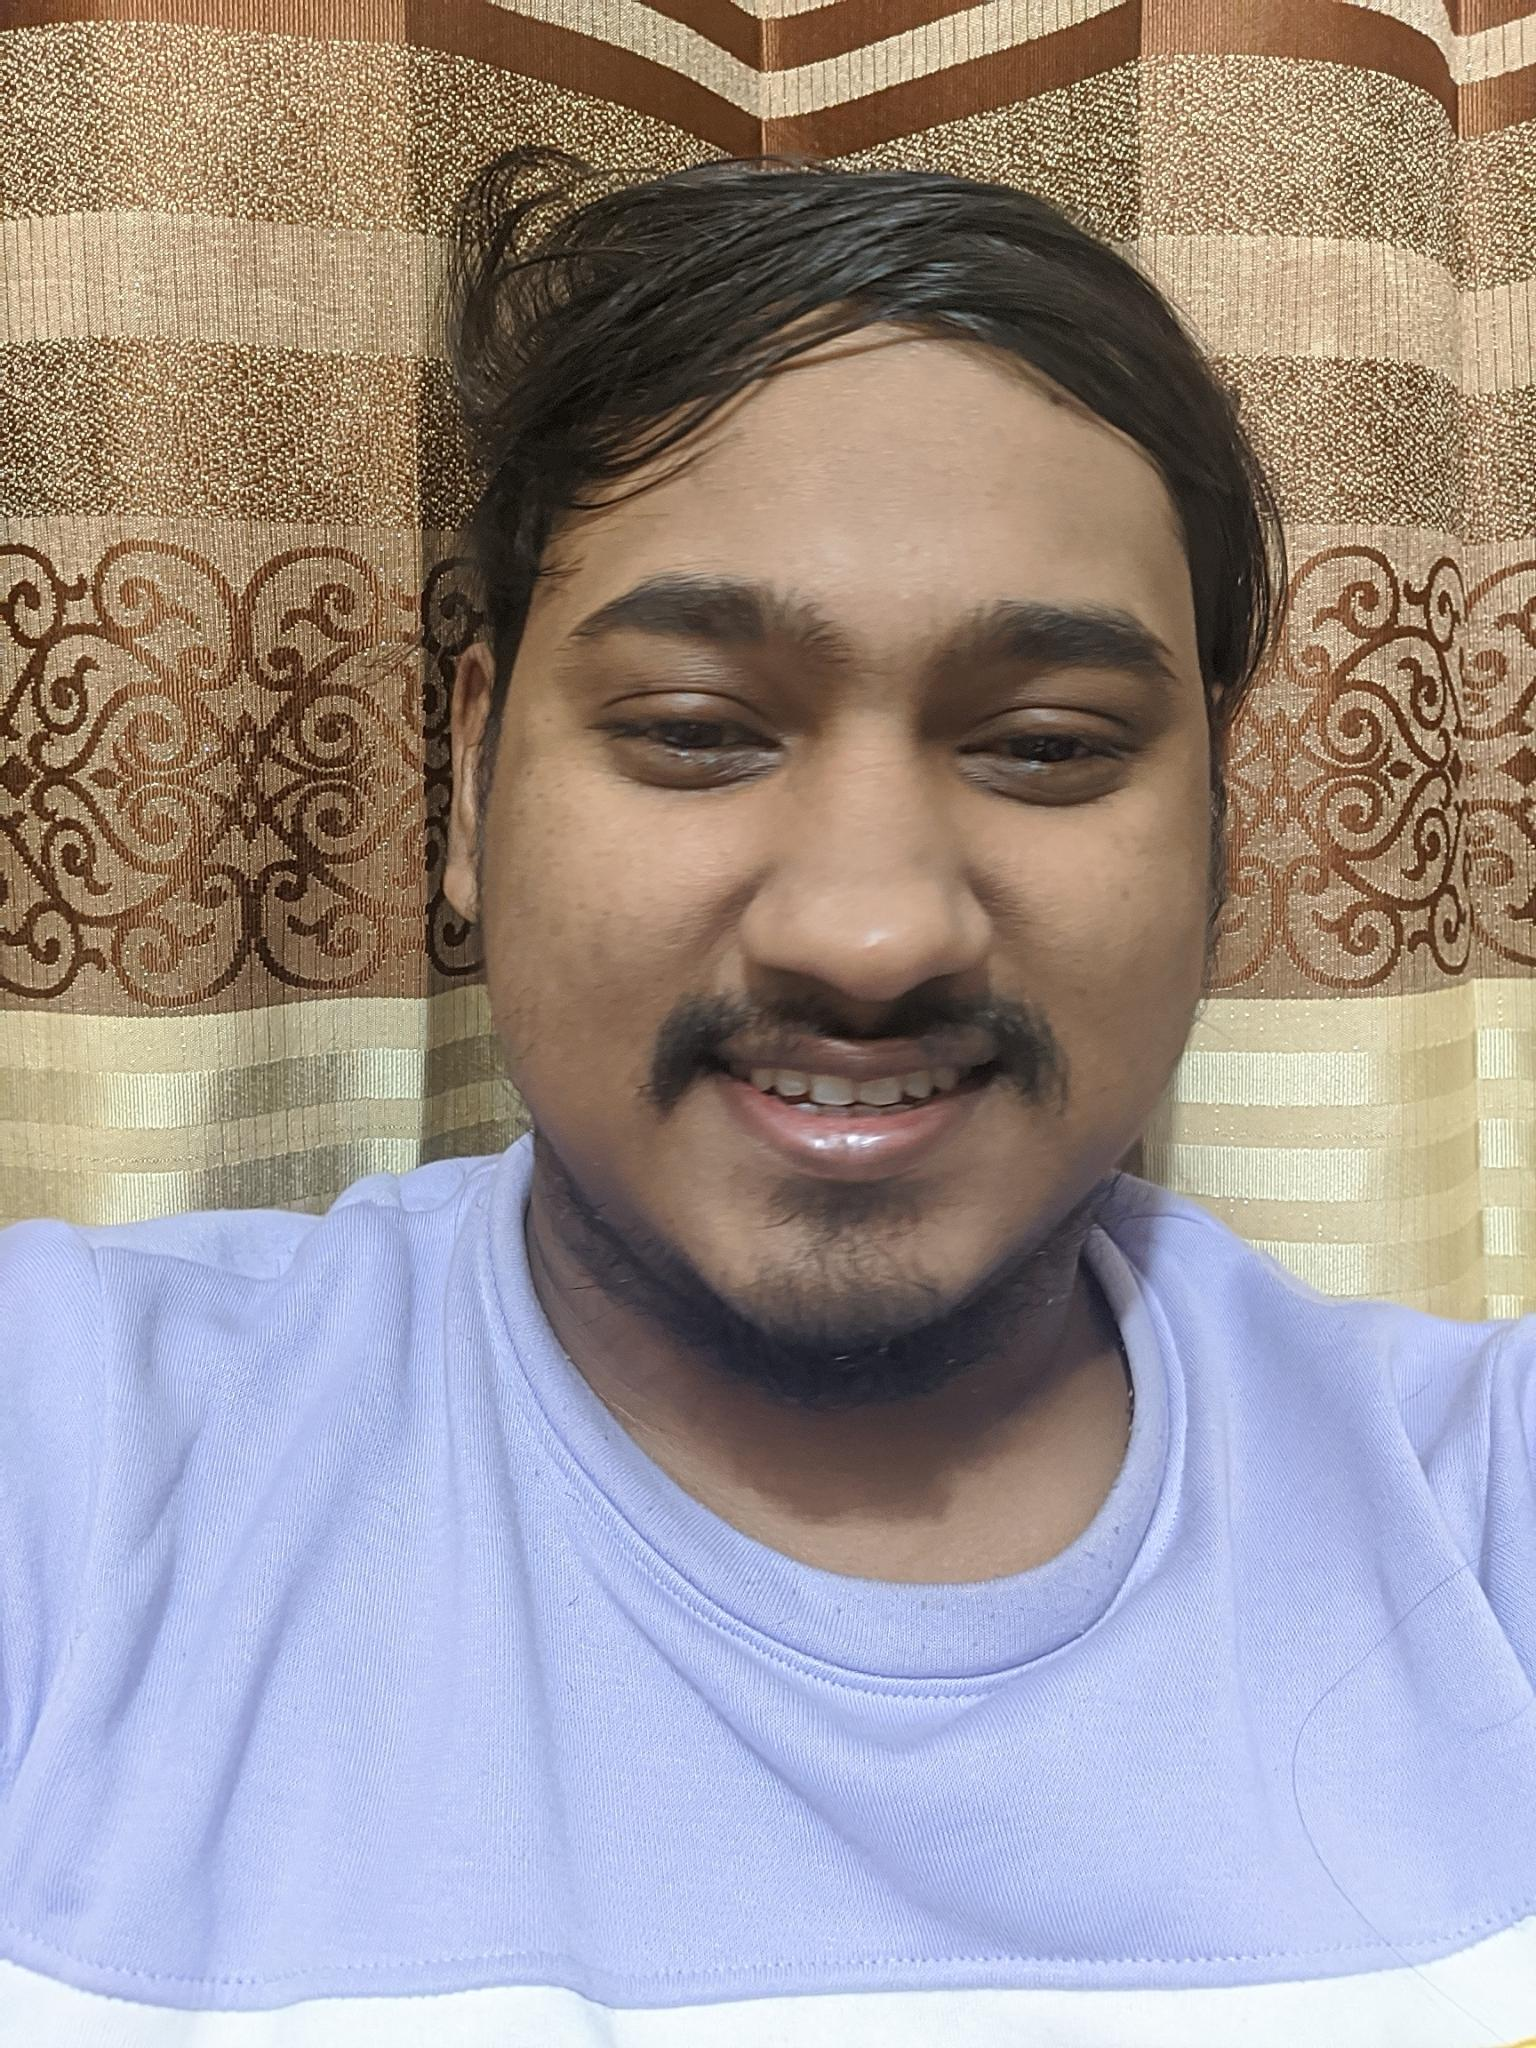Happy: (482, 472, 1212, 1332)
